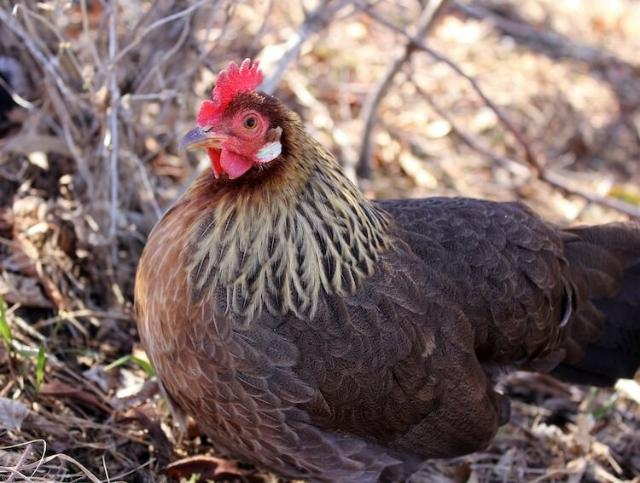Chicken: (134, 56, 640, 483)
